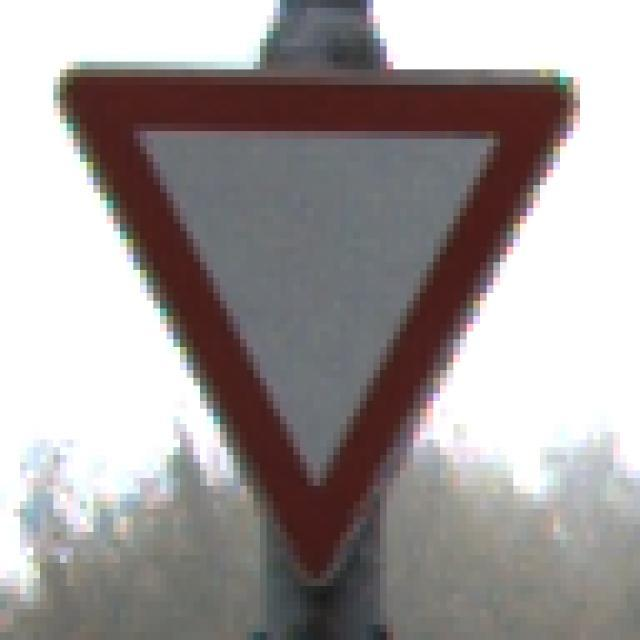give way: (48, 40, 586, 589)
